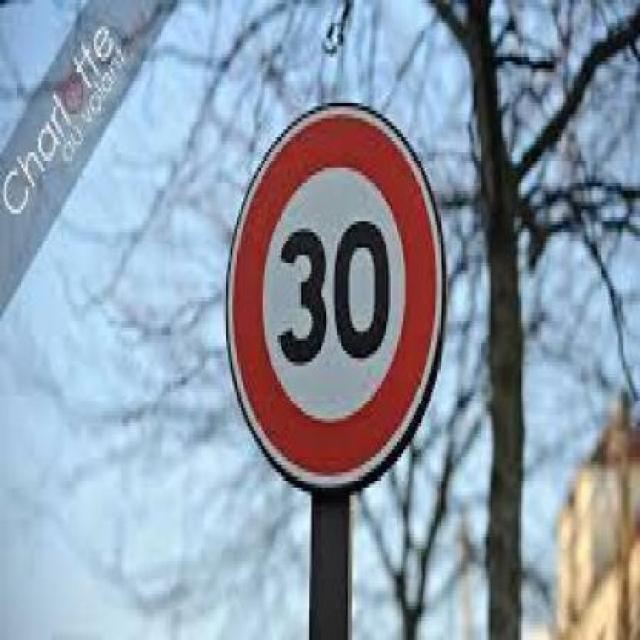forb_speed_over_30: (241, 129, 427, 454)
